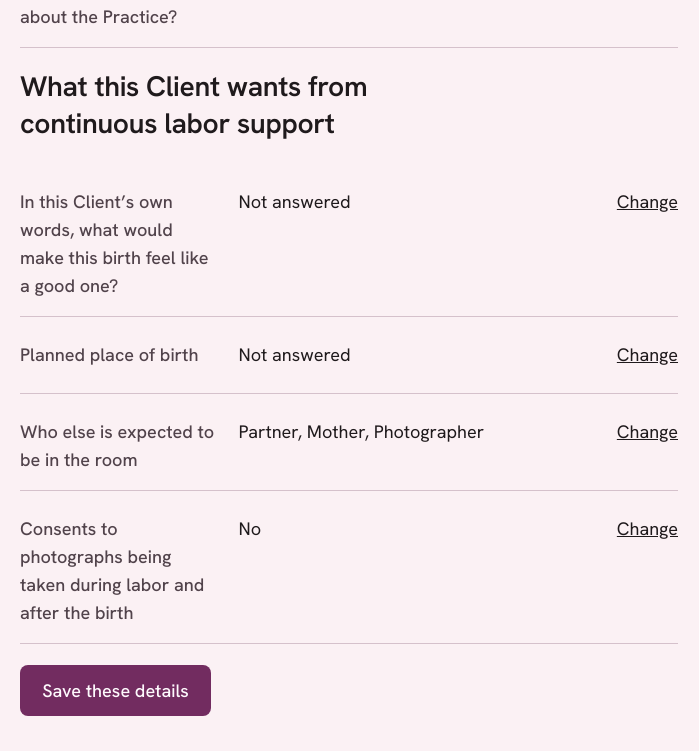
Test: the check page › shows the refusal of a record that can no longer be edited
(page scrolled)
Click the button "Save these details".
click(116, 691)  # box left=20, top=665, right=211, bottom=716
(page scrolled)
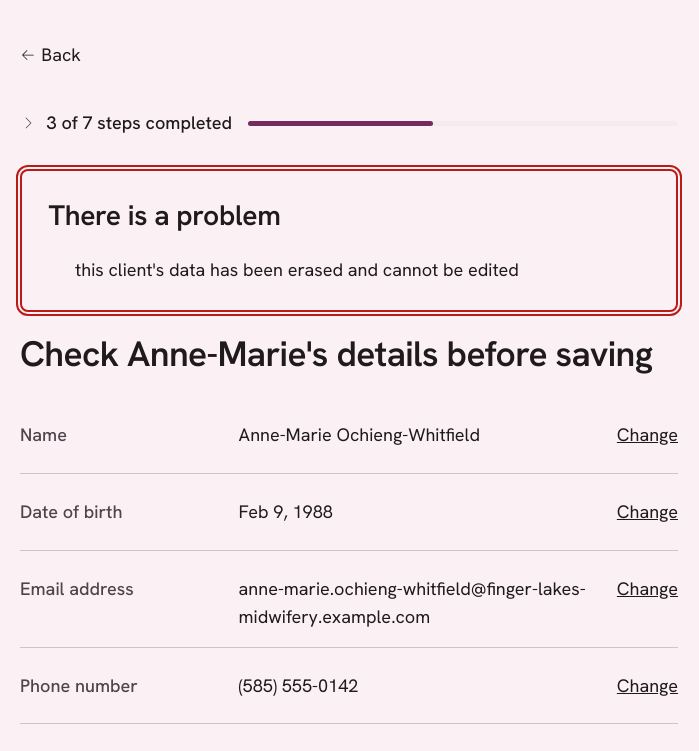
Now the heading "There is a problem" is shown, box left=48, top=197, right=281, bottom=234
Now the list item "this client's data has been erased and cannot be edited" is shown, box left=75, top=258, right=519, bottom=281
